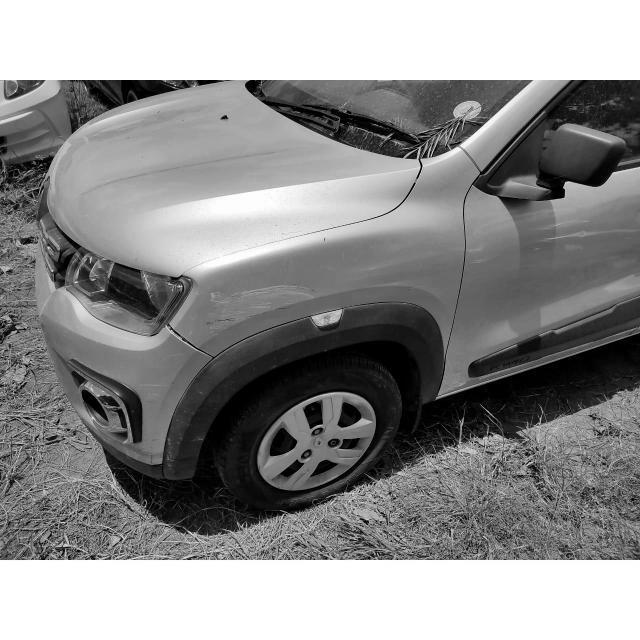fender-dent: (188, 267, 450, 378)
